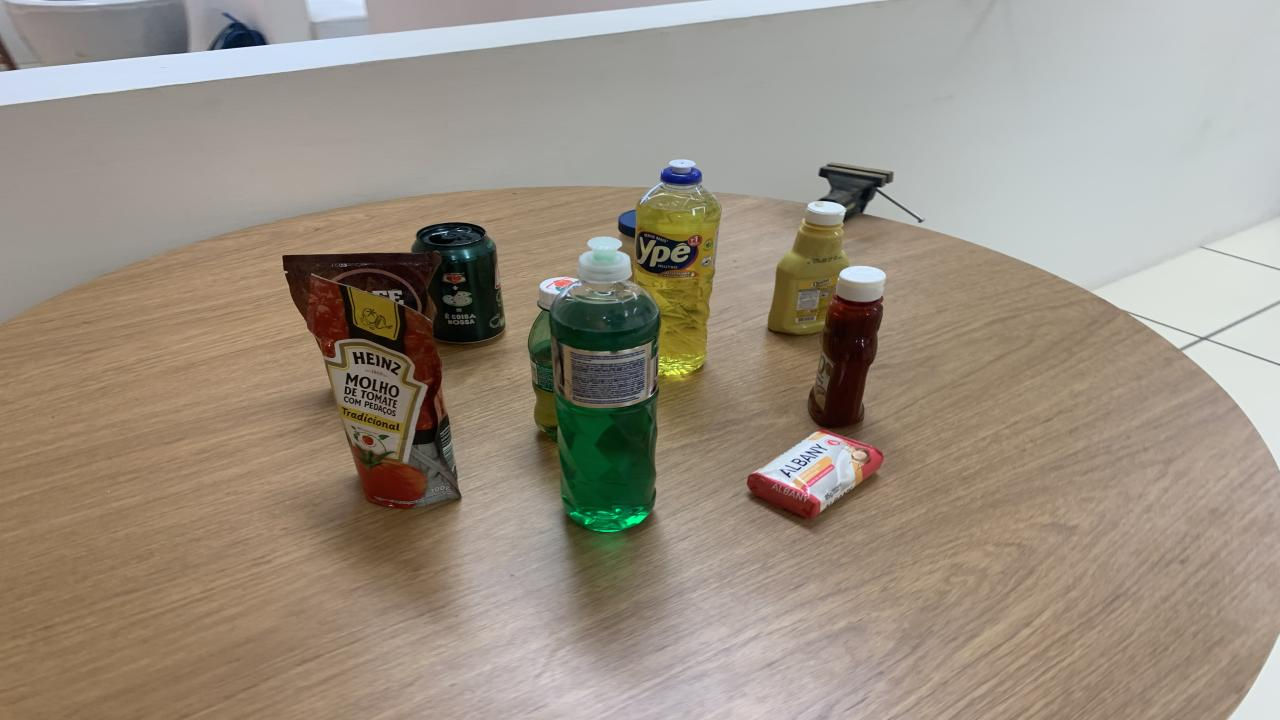Coffee-Pantry_Items: (282, 253, 440, 321)
Detergent-Cleanup_Items: (550, 236, 660, 532), (635, 159, 722, 375)
Guarana-Drinks: (528, 278, 578, 439)
Guarana_Can-Drinks: (412, 221, 505, 343)
Ketchup-Pantry_Items: (808, 266, 885, 428)
Mayonnaise-Pantry_Items: (618, 210, 635, 266)
Mustard-Pantry_Items: (768, 201, 848, 334)
Soap-Cleanup_Items: (748, 431, 882, 518)
Tomato_Sauce-Pantry_Items: (305, 276, 460, 508)
